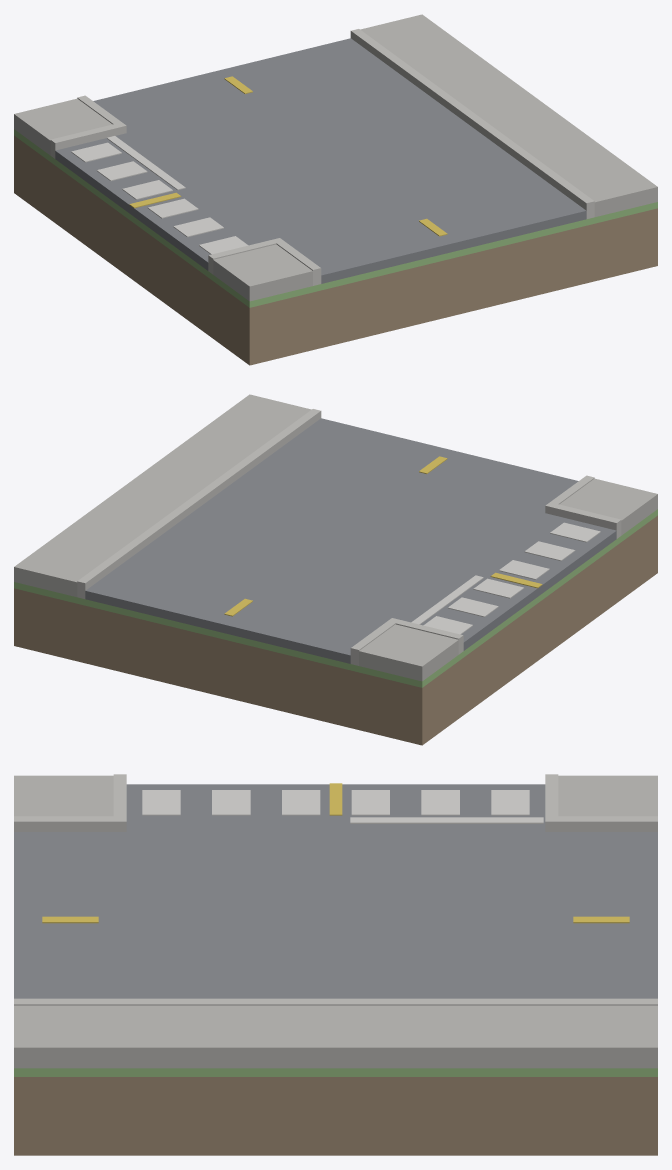
File: ruas__asfalto_t.glb
3 renders of one model, top to bottom at view 1: azimuth 30°, elevation 25°; view 2: azimuth 150°, elevation 25°; view 3: azimuth 270°, elevation 25°, orthographic. The views are drawn at different scales.
Visible parts, largest first — view 1: ruas__asfalto_t; view 2: ruas__asfalto_t; view 3: ruas__asfalto_t.
Boxes of the visible parts, x1,y1,x2,y2 form: ruas__asfalto_t: (14,14,657,365); ruas__asfalto_t: (14,394,657,745); ruas__asfalto_t: (14,774,657,1155).
Size of the model in its own units: 2 by 0.375 by 2.
